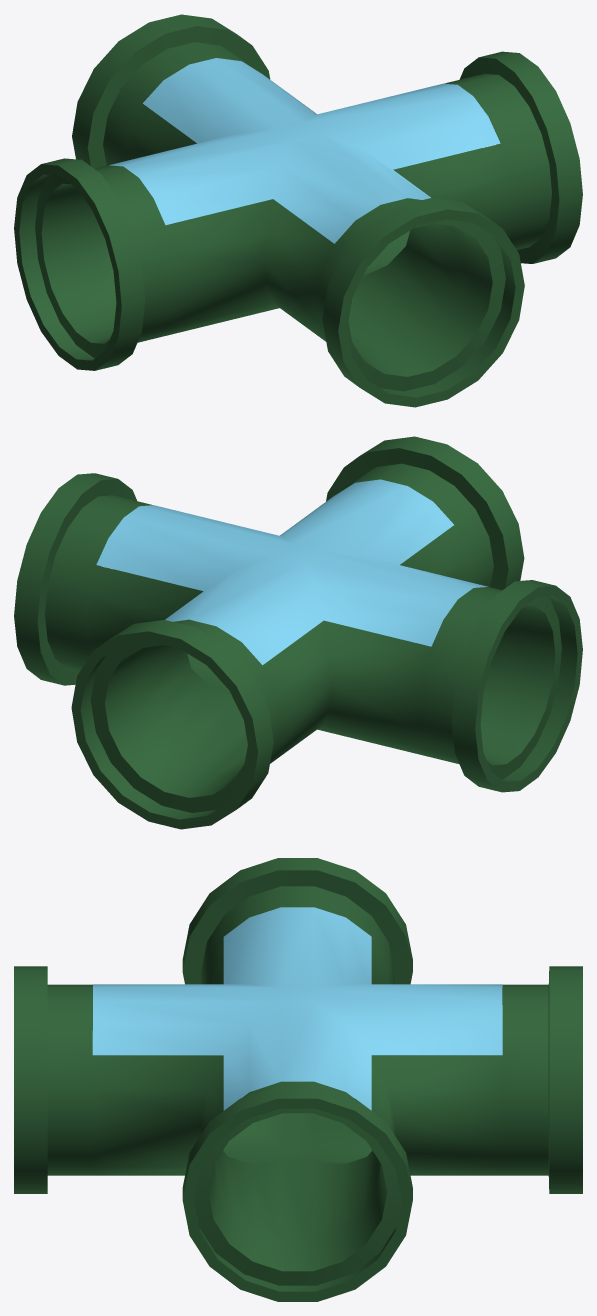
The model's file is x ventana.fbx.
3 renders of one model, top to bottom at view 1: azimuth 30°, elevation 25°; view 2: azimuth 150°, elevation 25°; view 3: azimuth 270°, elevation 25°, orthographic. The views are drawn at different scales.
Visible parts, largest first — view 1: x con ventana, ventana X; view 2: x con ventana, ventana X; view 3: x con ventana, ventana X.
Part boxes in pixels (x1,y1,x2,y2): x con ventana: (14, 14, 582, 407); ventana X: (109, 58, 500, 243); x con ventana: (14, 436, 582, 829); ventana X: (96, 479, 488, 665); x con ventana: (14, 858, 582, 1301); ventana X: (92, 907, 502, 1110).
Size of the model in its own units: 1 by 0.3942 by 1.
